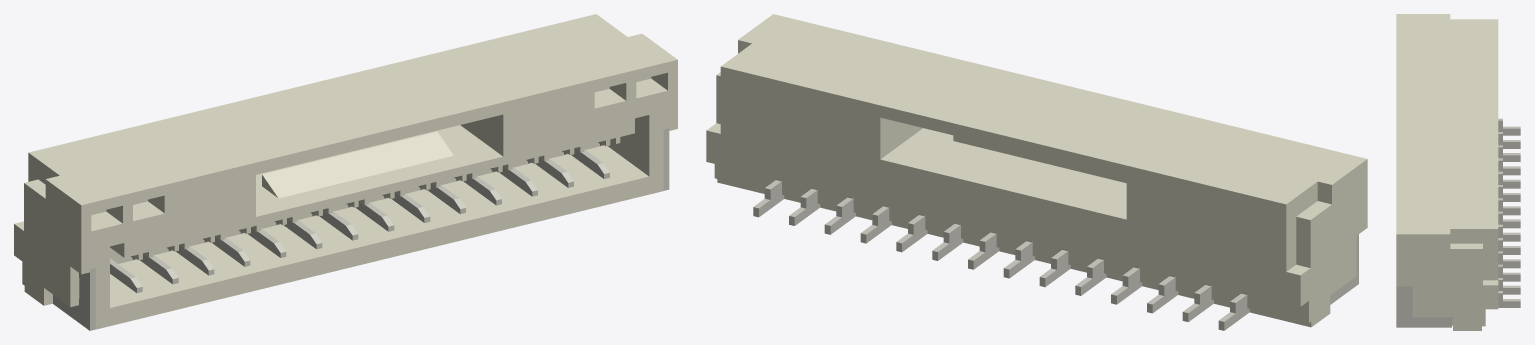
Rendered from kc-jst_gh_sm14b-ghs-tb_1x14-1mp_p1.25mm_horizontal.glb.
The picture shows the model from 3 angles, left to right: view 1: azimuth 30°, elevation 25°; view 2: azimuth 150°, elevation 25°; view 3: azimuth 270°, elevation 25°; orthographic projection. The views are drawn at different scales.
Parts seen in each view (by area): view 1: 0.75_0.75_0.5833333333333334_0, 0.6666666666666666_0.6666666666666666_0.5833333333333334_0.8; view 2: 0.75_0.75_0.5833333333333334_0, 0.6666666666666666_0.6666666666666666_0.5833333333333334_0.8; view 3: 0.75_0.75_0.5833333333333334_0, 0.6666666666666666_0.6666666666666666_0.5833333333333334_0.8.
Part boxes in pixels (<box>): 0.75_0.75_0.5833333333333334_0: <box>14,14,677,329</box>; 0.6666666666666666_0.6666666666666666_0.5833333333333334_0.8: <box>53,128,669,330</box>; 0.75_0.75_0.5833333333333334_0: <box>706,14,1367,327</box>; 0.6666666666666666_0.6666666666666666_0.5833333333333334_0.8: <box>753,179,1358,330</box>; 0.75_0.75_0.5833333333333334_0: <box>1396,14,1498,330</box>; 0.6666666666666666_0.6666666666666666_0.5833333333333334_0.8: <box>1396,118,1520,327</box>.
Size of the model in its own units: 2.08 by 0.425 by 0.4949.
